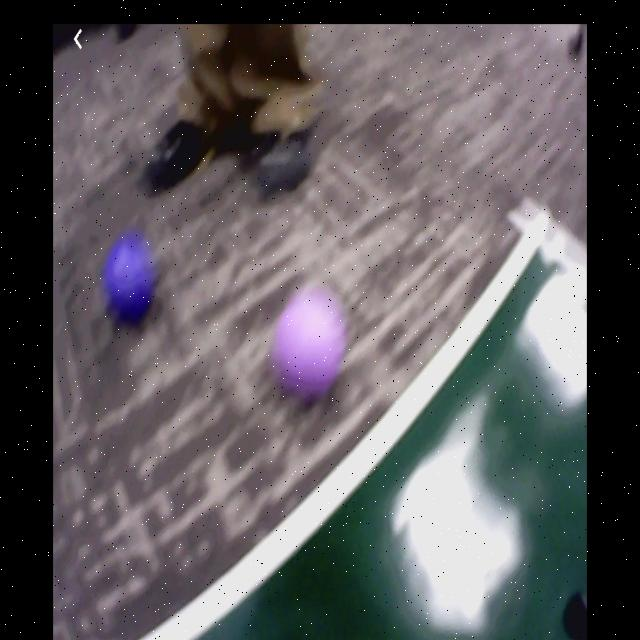ball: (271, 290, 345, 397), (106, 239, 158, 321)
